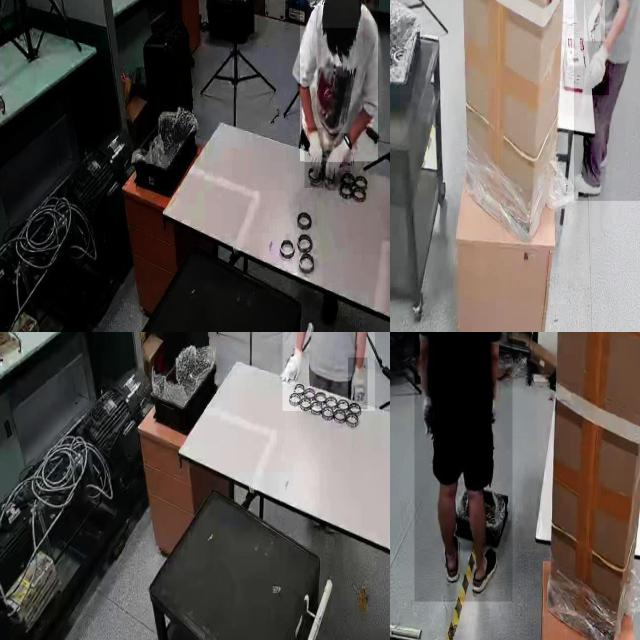hand_glove: (583, 42, 609, 96), (279, 344, 307, 390), (329, 133, 351, 191), (304, 127, 324, 189), (348, 358, 368, 410), (584, 0, 605, 40)
head_nohelmet: (321, 0, 360, 29)
person: (414, 332, 513, 602), (573, 0, 640, 201), (299, 0, 378, 162), (282, 332, 375, 411)
shoes: (440, 525, 464, 583), (471, 544, 497, 595), (570, 167, 602, 200)
